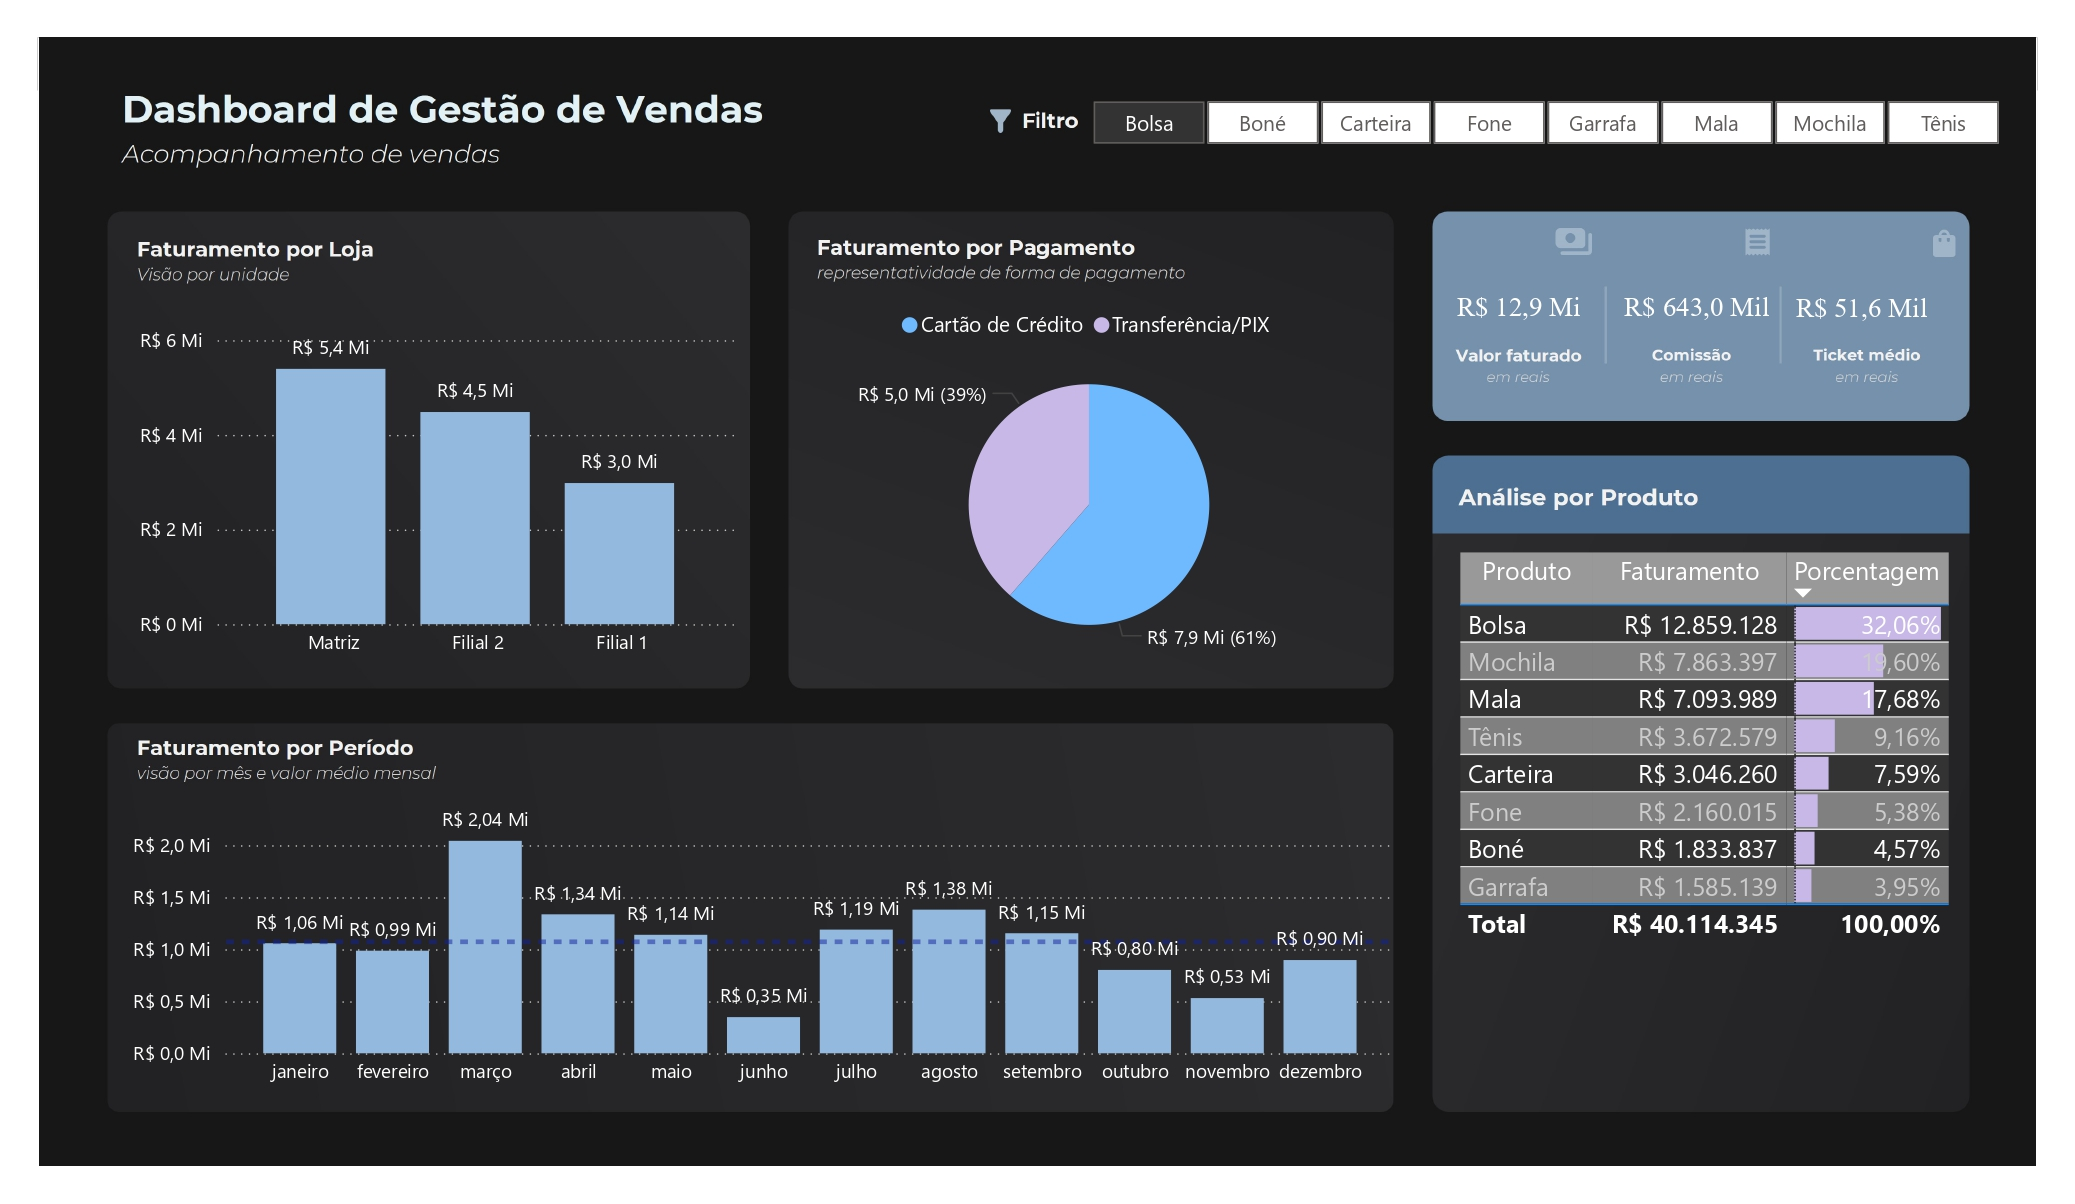

Layout of this report page (visuals, bound fields, positions):
{"tool":"powerbi","page":{"name":"Página 1","canvas":[1280,723],"ordinal":0},"visuals":[{"type":"card","fields":{"Values":["Sum(registroVendas.Valor Venda)"]},"box":[881.8,150,132.7,48.2],"z":0},{"type":"card","fields":{"Values":["Avg(registroVendas.Valor Venda)"]},"box":[1076.4,135.5,183.6,78.2],"z":1000},{"type":"clusteredColumnChart","title":"Faturamento por Período","fields":{"Category":["registroVendas.Data Pedido.Variation.Hierarquia de datas.Mês"],"Y":["Sum(registroVendas.Valor Venda)"]},"box":[55.5,476.4,818.2,204.5],"z":2000},{"type":"pieChart","title":"Faturamento por Pagamento","fields":{"Category":["registroVendas.Pagamento"],"Y":["Sum(registroVendas.Valor Venda)"]},"box":[489.1,163.6,368.2,242.7],"z":3000},{"type":"clusteredColumnChart","title":"Faturamento por Loja","fields":{"Y":["Sum(registroVendas.Valor Venda)"],"Category":["lojas.nome_loja"]},"box":[59.1,174.5,393.6,231.8],"z":4000},{"type":"slicer","fields":{"Values":["registroVendas.Produto"]},"box":[650,33.6,630,40],"z":5000},{"type":"tableEx","fields":{"Values":["registroVendas.Produto","Sum(registroVendas.Valor Venda)","Divide(Sum(registroVendas.Valor Venda), ScopedEval(Sum(registroVendas.Valor Venda), []))"]},"box":[905.5,324.5,326.4,328.2],"z":7000},{"type":"card","fields":{"Values":["registroVendas.comissão"]},"box":[996.4,150,132.7,48.2],"z":7001}]}

Visuals, with their boxes in screenshot pixels (x1, y1, x2, y2):
card - Sum(registroVendas.Valor Venda): region(1415, 272, 1623, 347)
card - Avg(registroVendas.Valor Venda): region(1719, 249, 2006, 371)
"Faturamento por Período" clusteredColumnChart: region(124, 781, 1403, 1101)
"Faturamento por Pagamento" pieChart: region(802, 293, 1377, 672)
"Faturamento por Loja" clusteredColumnChart: region(130, 310, 745, 672)
slicer - registroVendas.Produto: region(1053, 90, 2038, 152)
tableEx - registroVendas.Produto x Sum(registroVendas.Valor Venda): region(1452, 544, 1962, 1057)
card - registroVendas.comissão: region(1594, 272, 1802, 347)
